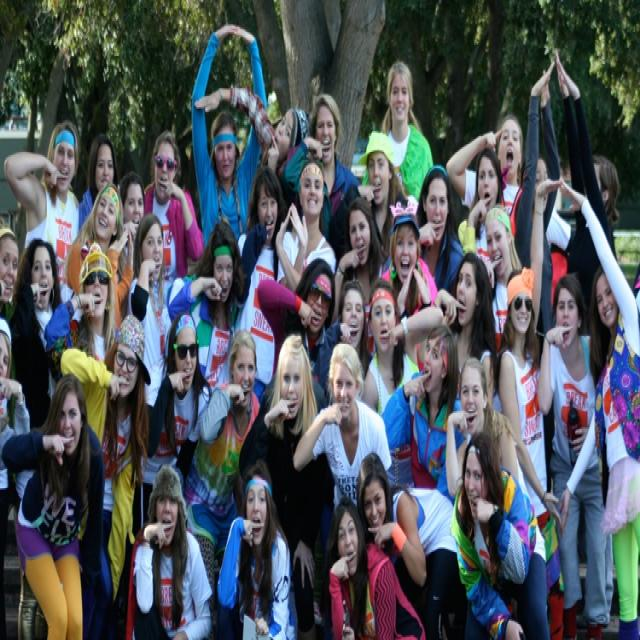body: (557, 168, 639, 638), (553, 48, 619, 566), (59, 312, 152, 640), (1, 370, 109, 638), (237, 330, 330, 638), (537, 273, 612, 640), (495, 266, 563, 636), (447, 429, 560, 638), (181, 326, 262, 614), (352, 446, 468, 638), (512, 58, 561, 499), (477, 178, 562, 416), (132, 307, 214, 546), (358, 278, 446, 492), (190, 21, 270, 256), (125, 211, 182, 536), (291, 339, 393, 517), (164, 216, 253, 395), (322, 493, 428, 640), (2, 114, 82, 307), (216, 458, 301, 638), (379, 322, 465, 492), (132, 462, 214, 640), (232, 163, 289, 403), (444, 355, 533, 507), (6, 235, 72, 432), (327, 128, 410, 283), (194, 84, 312, 186), (255, 254, 337, 396), (283, 93, 360, 243), (360, 58, 434, 208), (43, 240, 121, 379), (65, 181, 135, 333), (432, 250, 498, 411), (380, 198, 440, 374), (444, 112, 526, 238), (0, 312, 32, 634), (330, 194, 391, 358), (142, 130, 205, 284), (275, 155, 338, 291), (313, 277, 376, 408), (414, 160, 466, 293), (456, 142, 507, 270), (541, 170, 580, 315), (0, 225, 20, 486), (77, 131, 120, 237), (118, 171, 147, 261), (625, 253, 640, 347)
